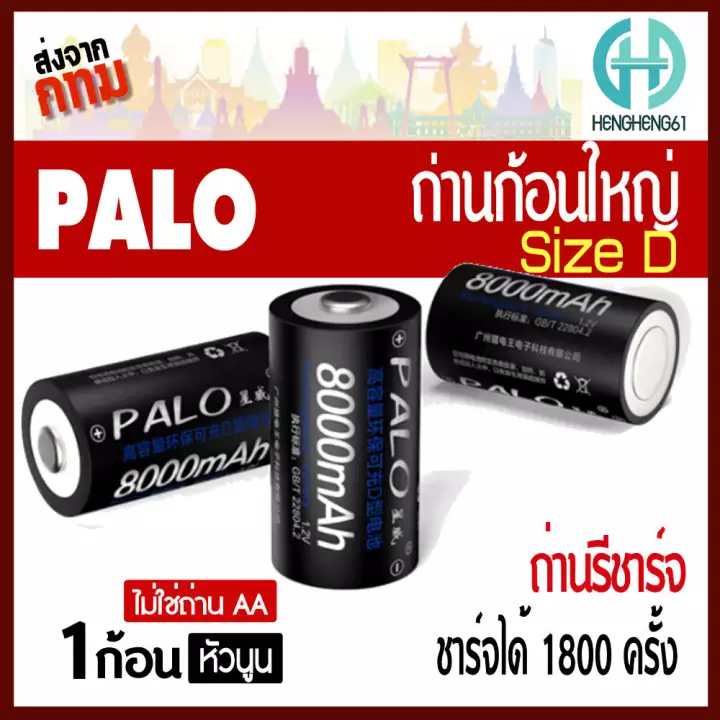Battery: (264, 280, 425, 595), (19, 329, 277, 522), (424, 259, 683, 432)
